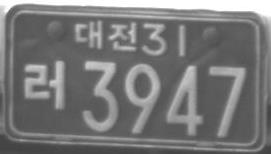1: (171, 24, 192, 57)
3: (80, 59, 120, 134), (141, 22, 168, 57)
4: (165, 63, 203, 137)
7: (208, 64, 248, 138)
9: (123, 62, 162, 135)
대전_O: (73, 19, 137, 53)
러: (22, 59, 68, 111)
